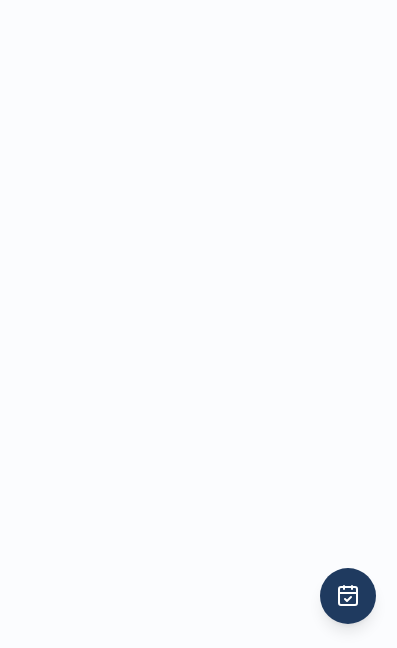
Scenario: Floating assistant widget › closes with Escape and returns focus to the launcher
The image size is (397, 648).
Click the button named "Open EventHub assistant".
click(348, 596)  # box [320,568,376,624]
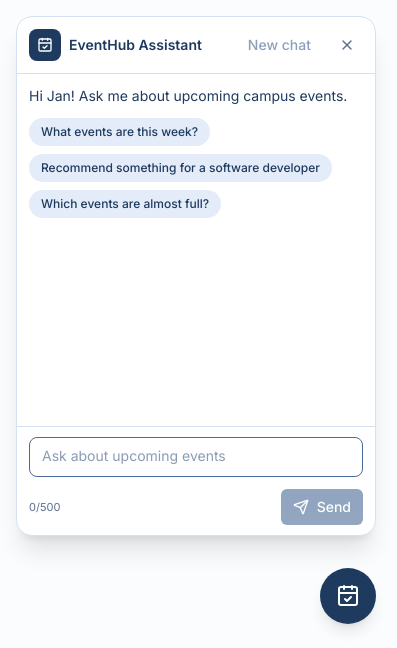
Press Escape
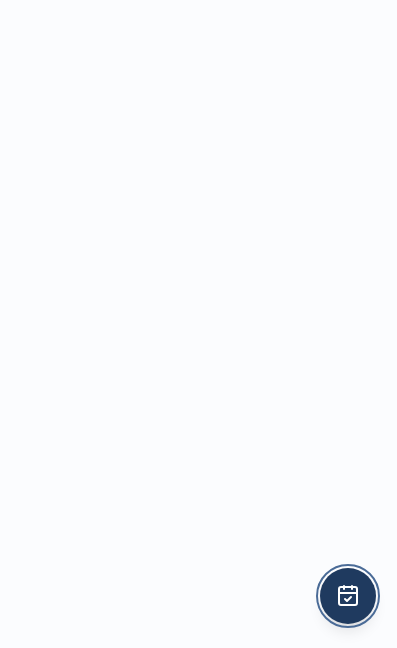
expect the heading "EventHub Assistant" is gone: met
